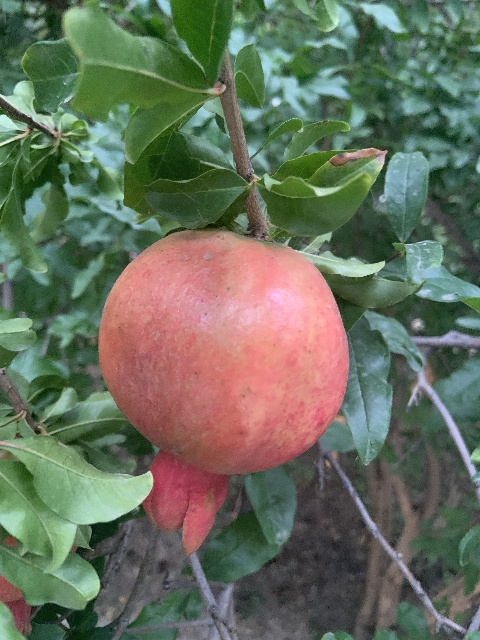ripe: (98, 230, 349, 559)
